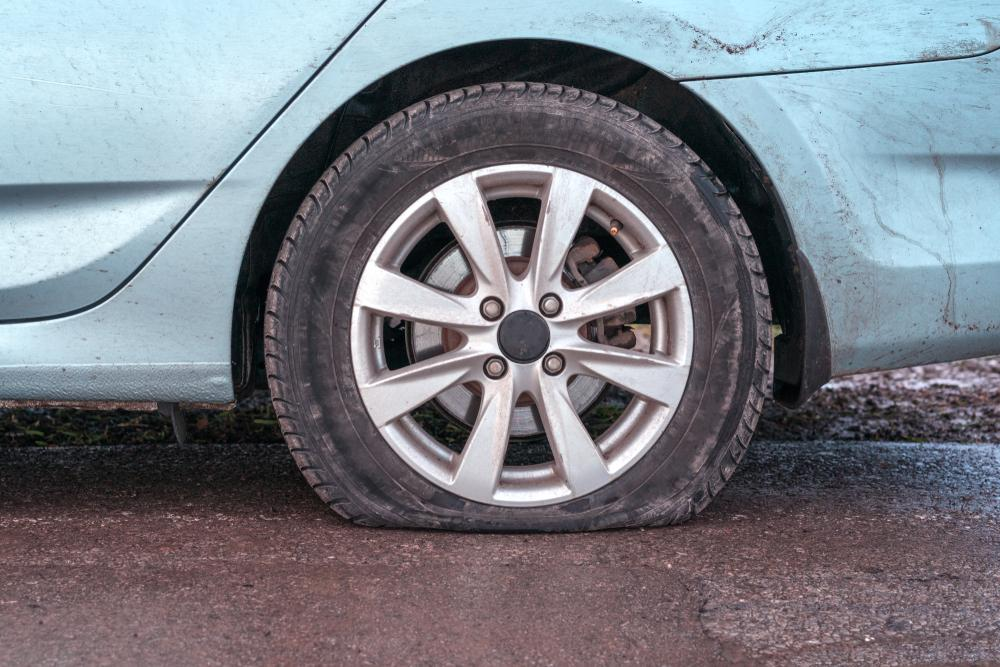tire flat: (262, 85, 769, 537)
